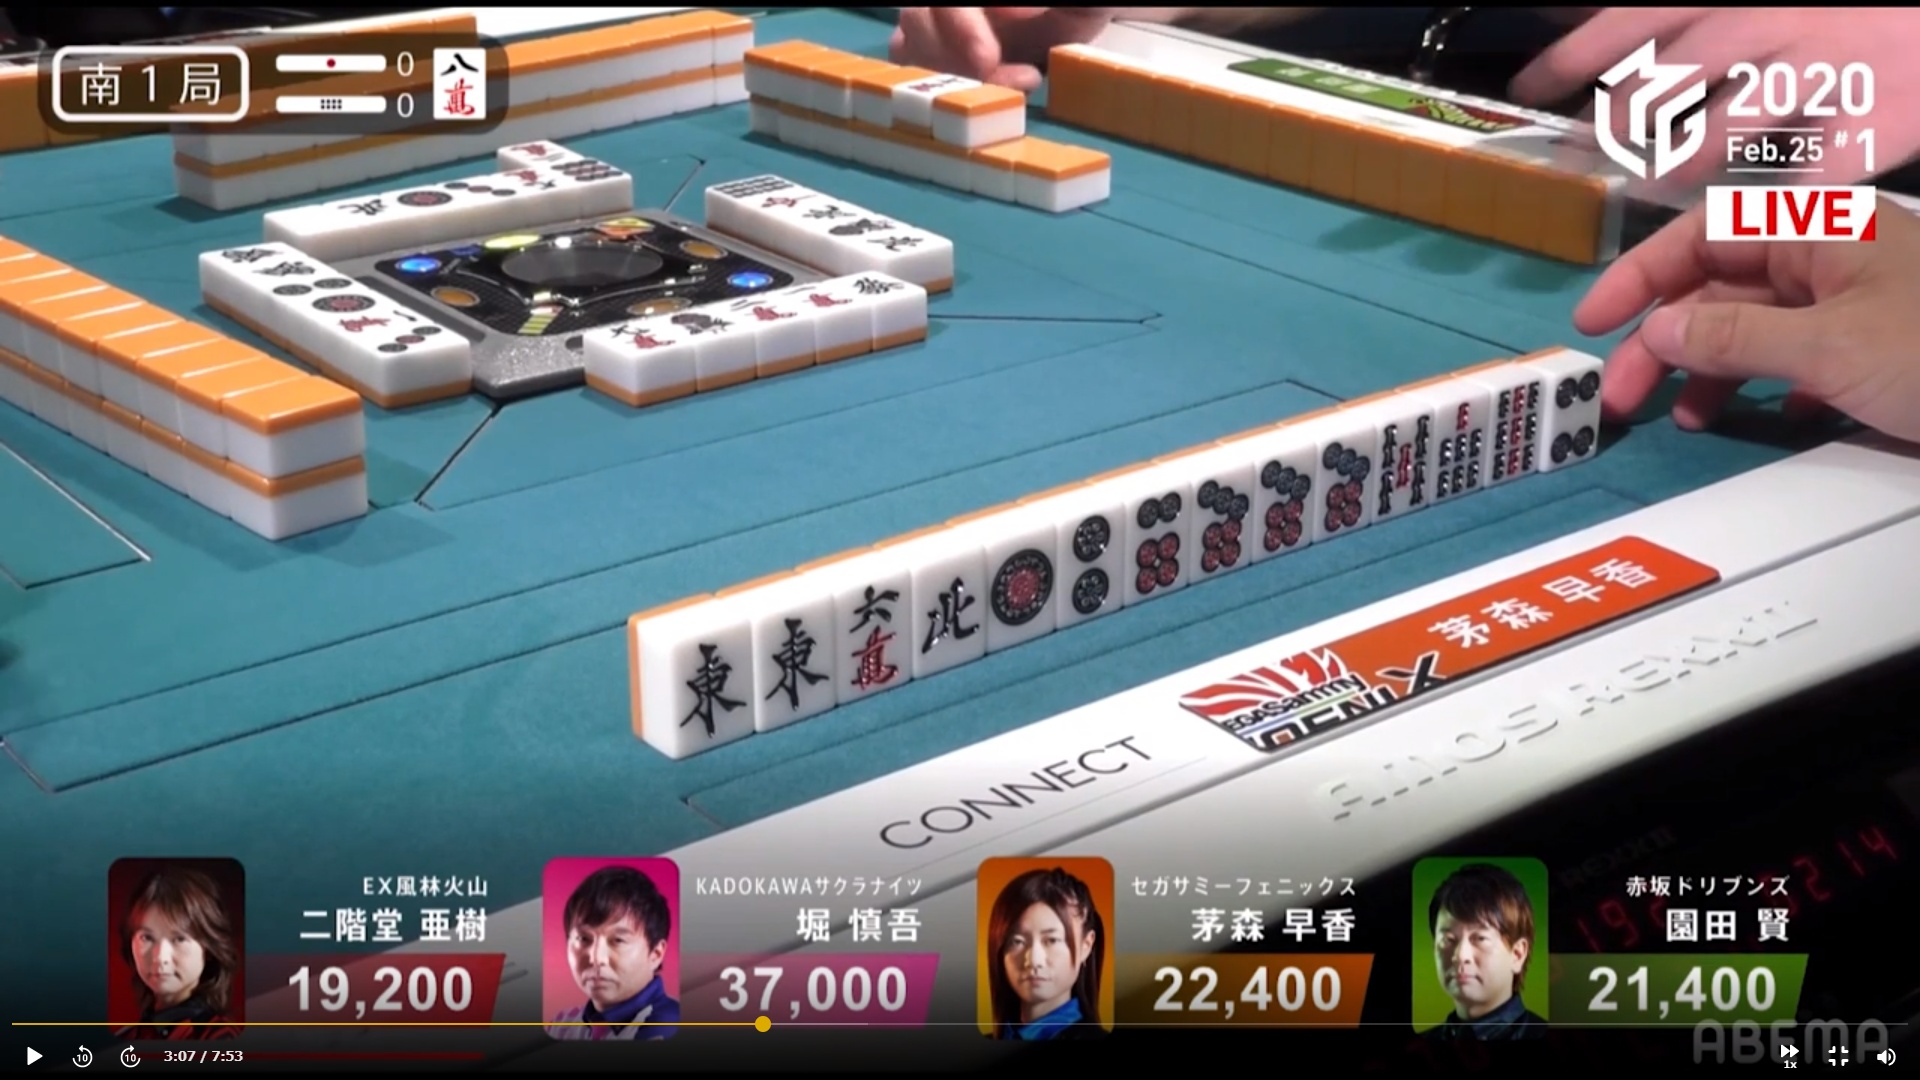1p: (989, 527, 1059, 651)
2p: (1058, 506, 1118, 626)
4p: (1543, 361, 1600, 469)
5s: (1370, 407, 1431, 521)
6m: (836, 574, 910, 700)
6p: (1125, 484, 1184, 600)
6s: (1433, 393, 1490, 502)
7p: (1250, 446, 1308, 566), (1191, 465, 1251, 580), (1313, 427, 1373, 542)
9s: (1487, 377, 1542, 484)
hand_nan_1: (40, 40, 258, 124)
pei: (914, 551, 988, 674)
round_0: (268, 84, 419, 123)
team_segasammy: (1170, 617, 1466, 754)
ton: (749, 593, 840, 720), (665, 624, 749, 746)
